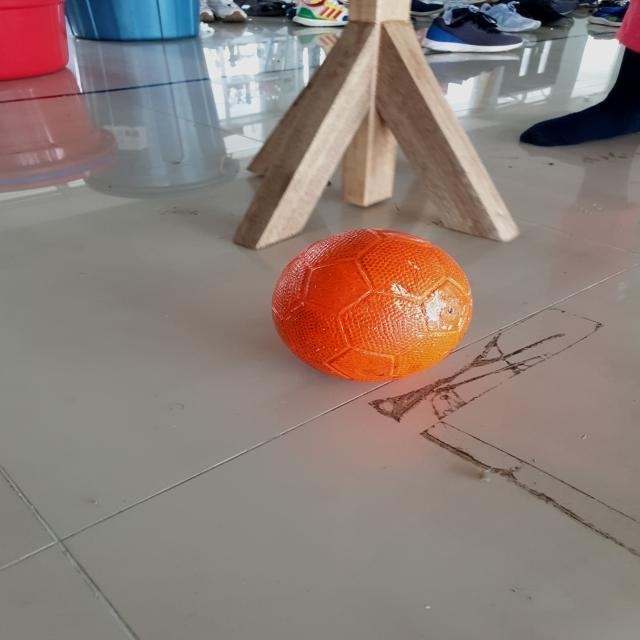bola: (264, 214, 480, 400)
